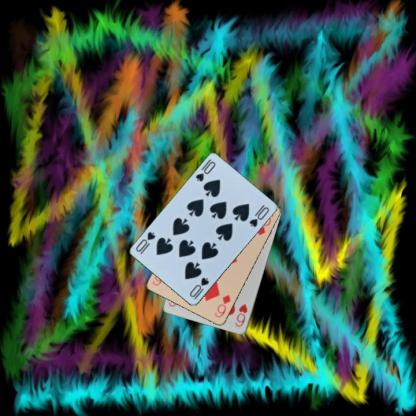10s: (193, 159, 217, 183), (188, 275, 210, 301)
6d: (212, 292, 232, 319)
6h: (233, 302, 249, 328)
